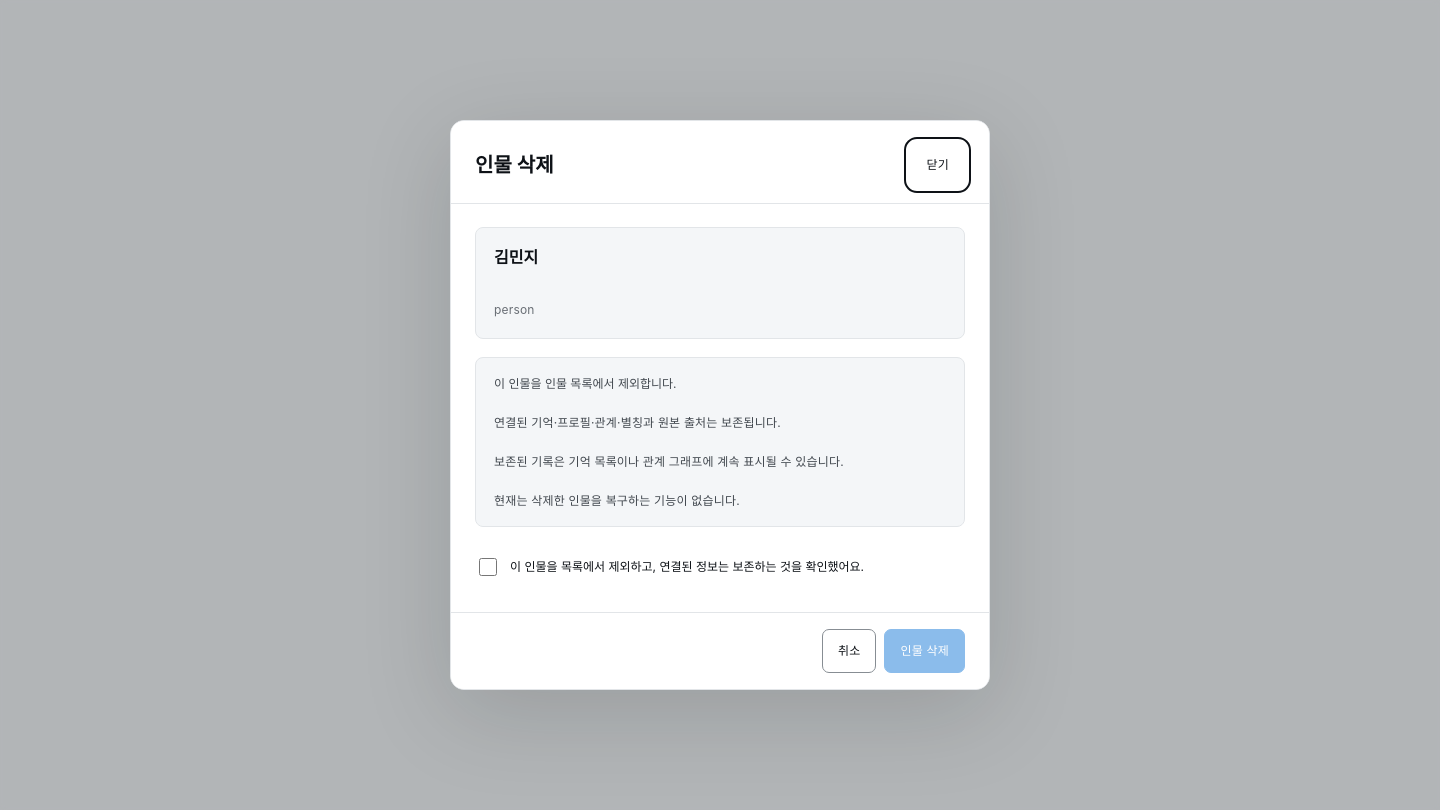
Scenario: 인물 삭제 › 성공 응답이라도 활성 상태이면 삭제 완료를 알리지 않는다
What coordinates should you click on to do the following:
click the checkbox
I would click on:
 (488, 567)
Its box is [479, 558, 497, 576].
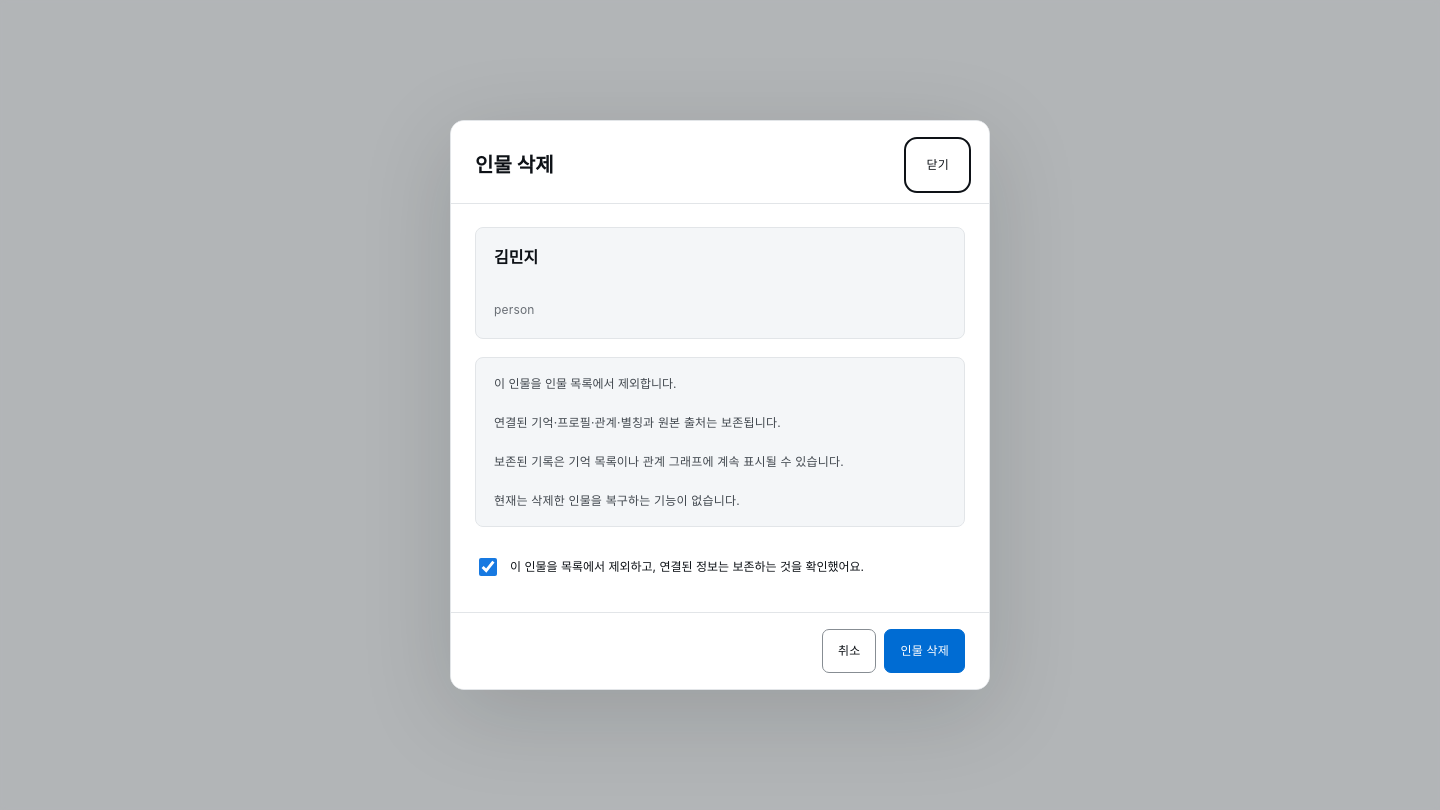
What coordinates should you click on to do the following:
click the button "인물 삭제"
I would click on:
 (925, 651)
Its box is [884, 629, 965, 673].
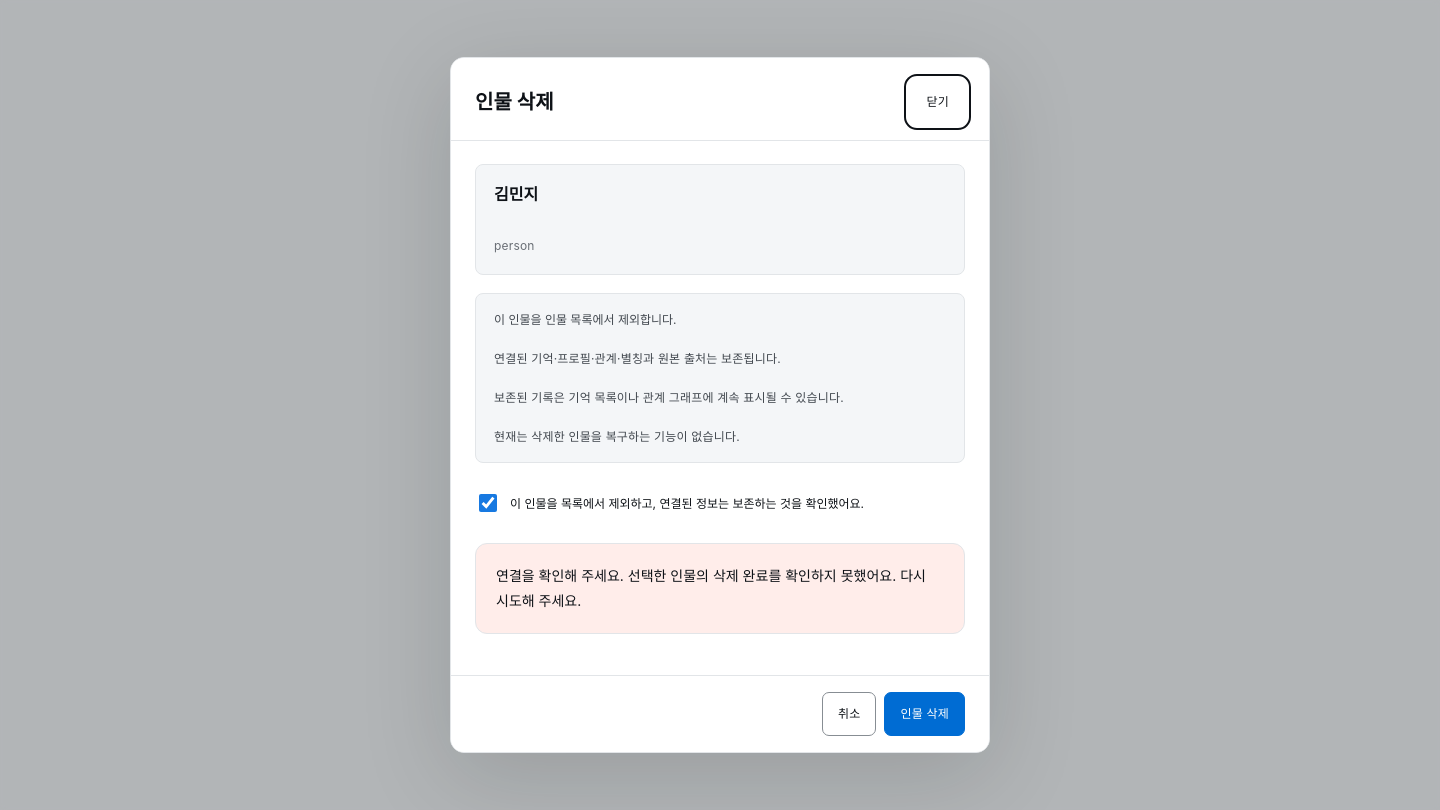
Now the message shows "선택한 인물의 삭제 완료를 확인하지 못했어요.", box [496, 567, 926, 609]
